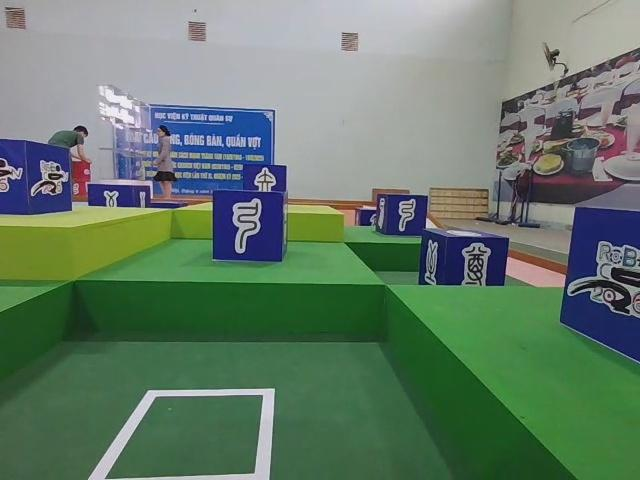R1 Blue: (563, 202, 640, 371), (0, 139, 70, 217)
R2 Fake Blue: (209, 190, 286, 264), (417, 229, 508, 288), (377, 194, 430, 237), (243, 164, 288, 192)
R2 Real Blue: (90, 185, 153, 210)
